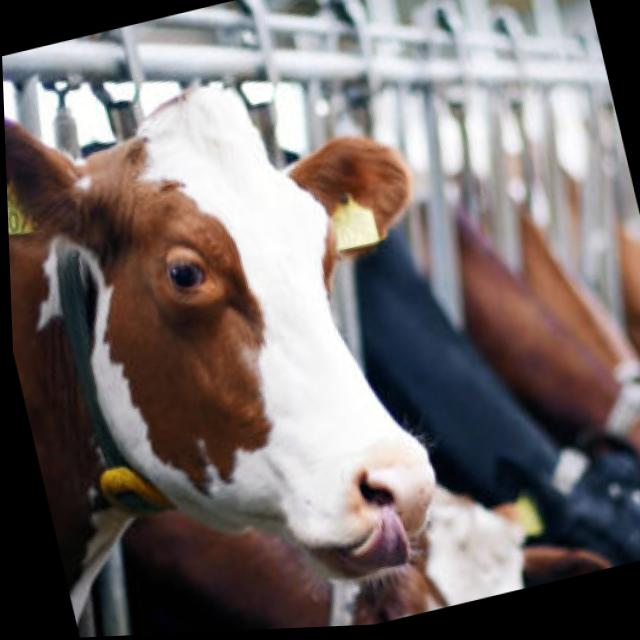cowFace: (1, 1, 503, 640)
